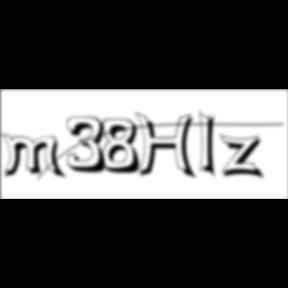3: (67, 116, 113, 176)
8: (102, 117, 148, 176)
H: (135, 112, 201, 182)
l: (199, 108, 222, 182)
m: (0, 132, 68, 181)
z: (220, 134, 268, 182)
